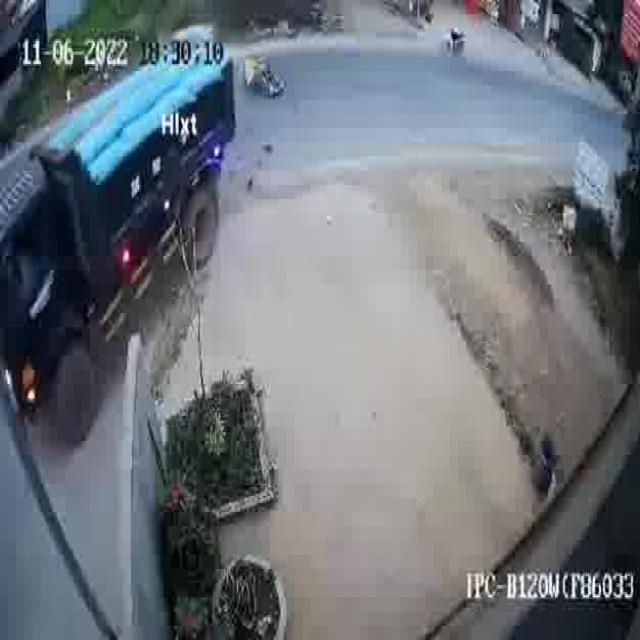multiple_accident: (240, 49, 290, 109)
